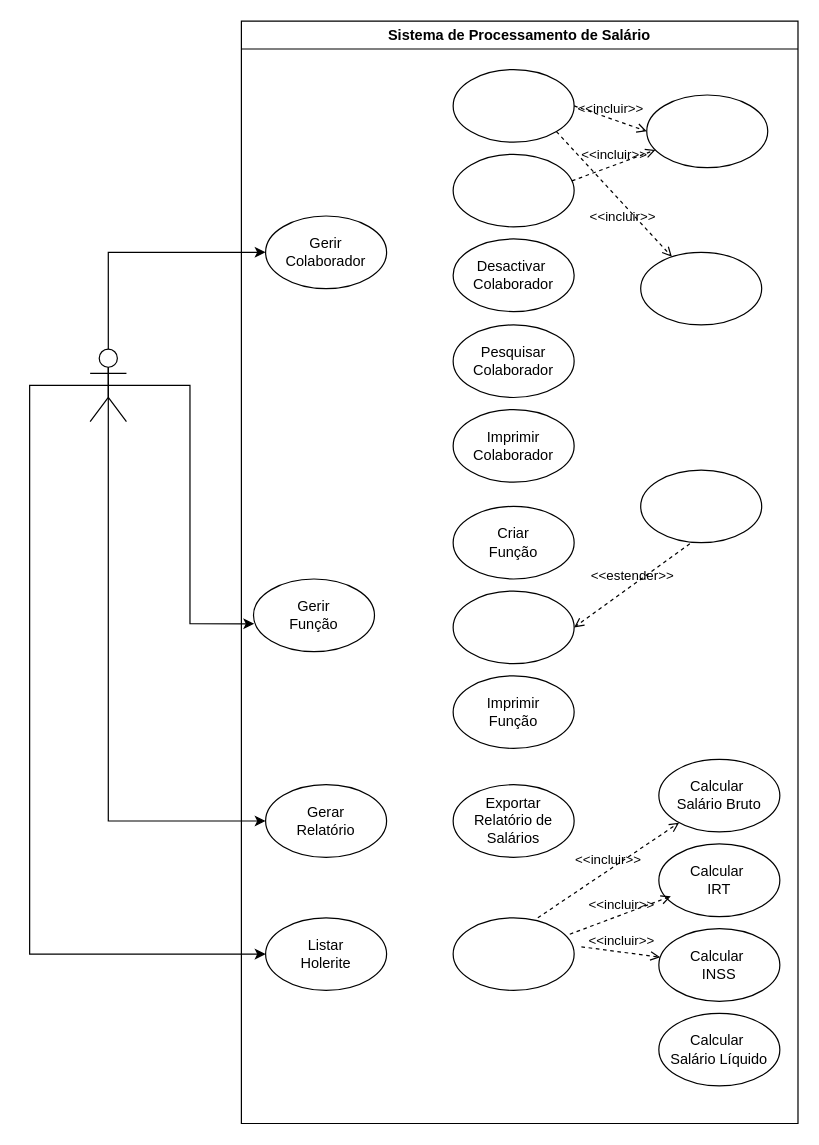
Some shapes in this 819 by 1145 pixel diagram are drawn without their labels. The shapes that lost their labels are listed below. From the top down, each one's box as (x1, y1, x2, y2) in pixels, then its label:
(452, 68, 574, 142): Cadastrar Colaborador
(646, 94, 768, 168): Validar Email
(452, 153, 574, 227): Actualizar Colaborador
(639, 251, 762, 325): Validar Existência de Função
(89, 348, 126, 422): Colaborador
(639, 469, 762, 543): Impedir Eliminação
(452, 590, 574, 664): Eliminar Função
(452, 917, 574, 990): Emitir Holerite
